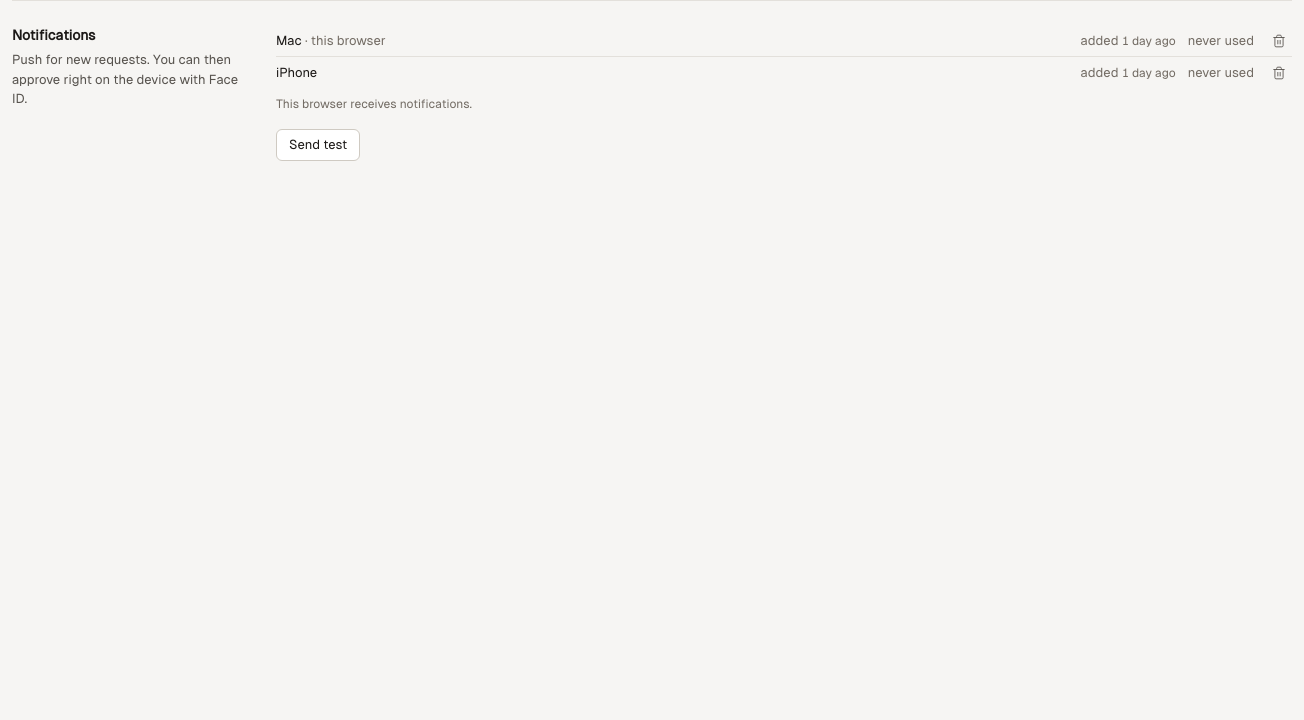
Test: PushSection › removing this browser’s subscription also unsubscribes locally
Expected: the text "· this browser" is shown, x1=302 y1=33 x2=386 y2=48
# Another device: only the server-side entry goes.
Click the button named "Remove iPhone".
click(1279, 73)  # box x1=1266 y1=60 x2=1292 y2=86
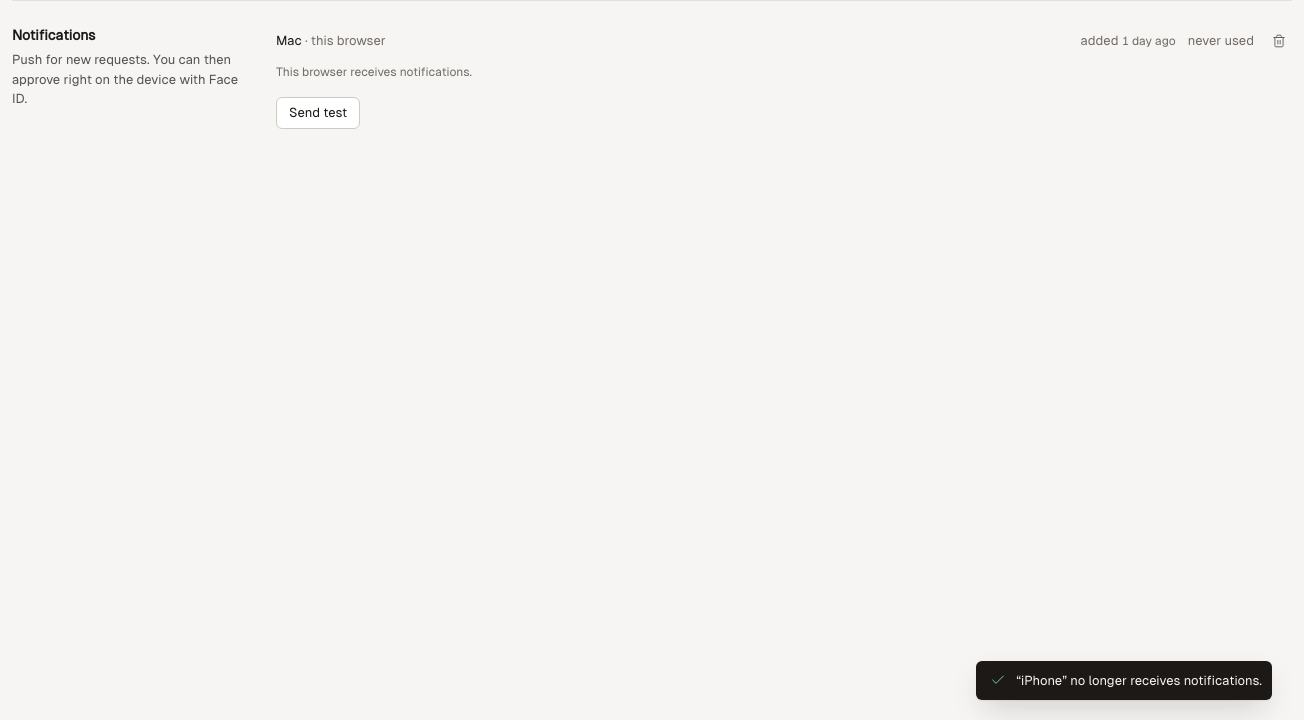
Now the text "“iPhone” no longer receives notifications." is shown, box x1=1016 y1=670 x2=1262 y2=690
Click the button named "Remove Mac".
click(1279, 41)  # box x1=1266 y1=28 x2=1292 y2=54
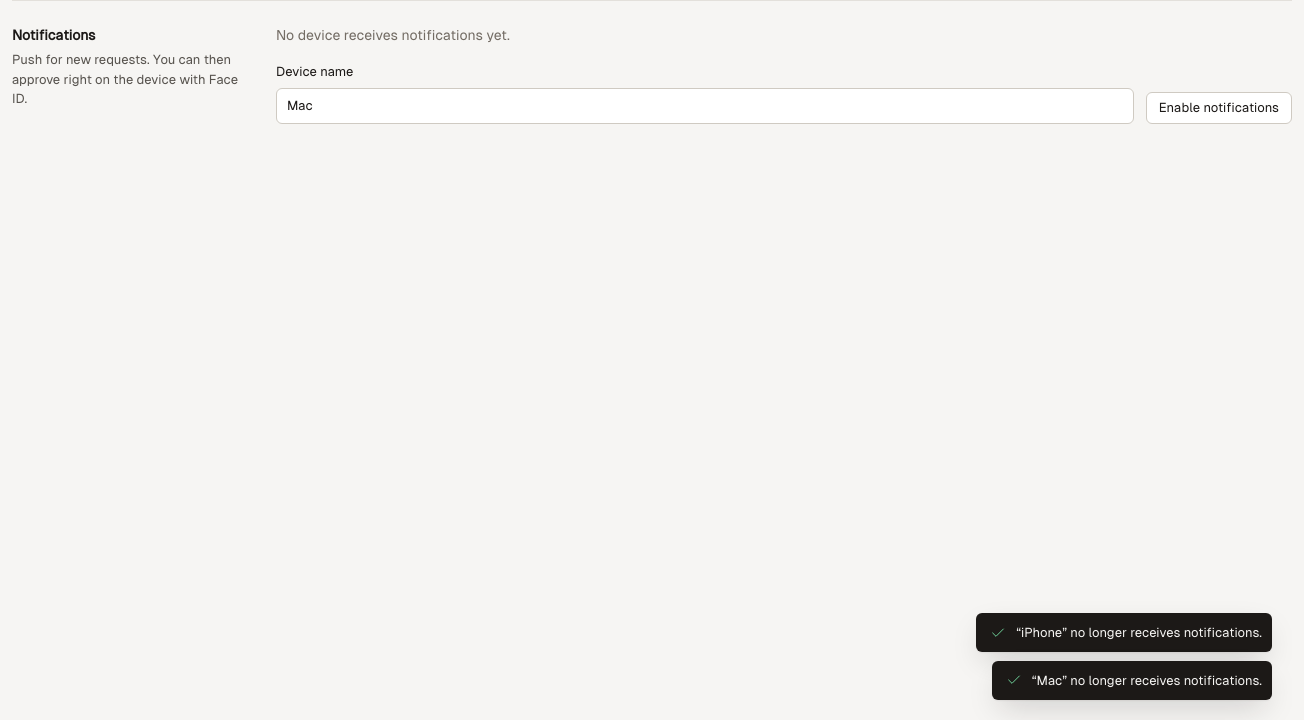
Now the button "Enable notifications" is shown, box x1=1146 y1=92 x2=1292 y2=124
